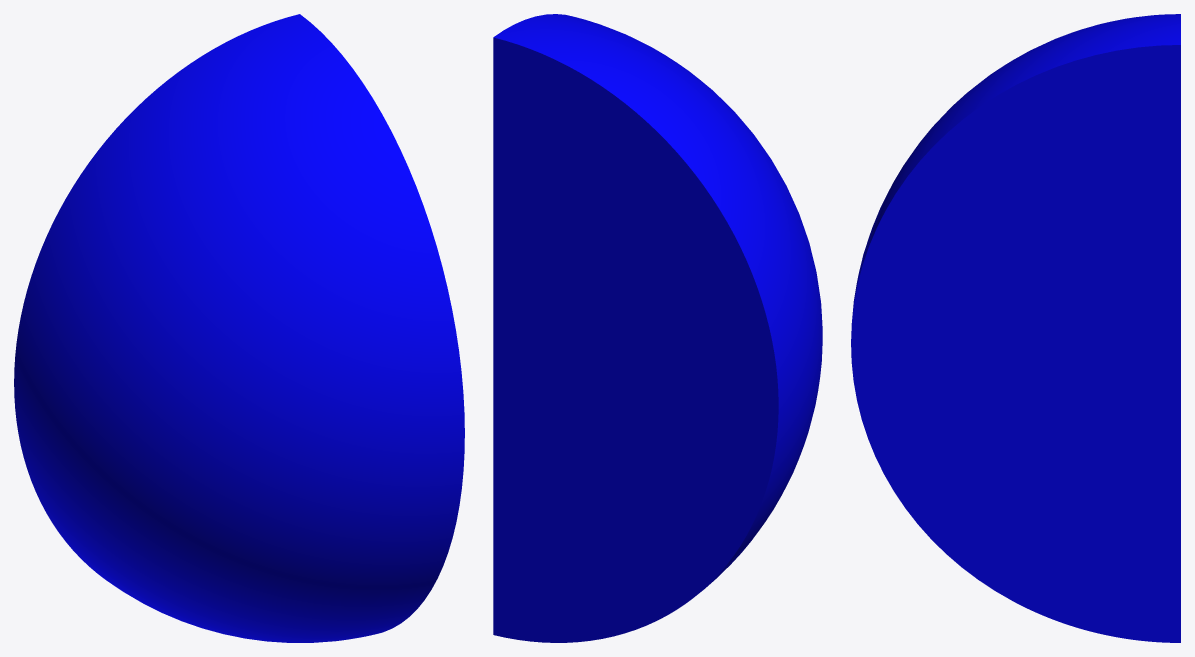
Rendered from Quarter_orange.dae.
The picture shows the model from 3 angles, left to right: view 1: azimuth 30°, elevation 25°; view 2: azimuth 150°, elevation 25°; view 3: azimuth 270°, elevation 25°; orthographic projection.
Parts seen in each view (by area): view 1: ID2; view 2: ID2; view 3: ID2.
Part boxes in pixels (left/top/right/bottom): ID2: left=14, top=14, right=464, bottom=642; ID2: left=493, top=14, right=822, bottom=642; ID2: left=851, top=14, right=1180, bottom=642.
Bounding box in the file's own units: 0.0381 × 0.0381 × 0.0762.
